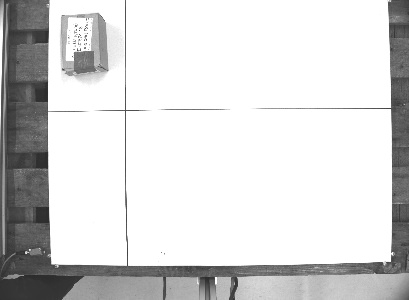b6: (56, 11, 111, 78)
